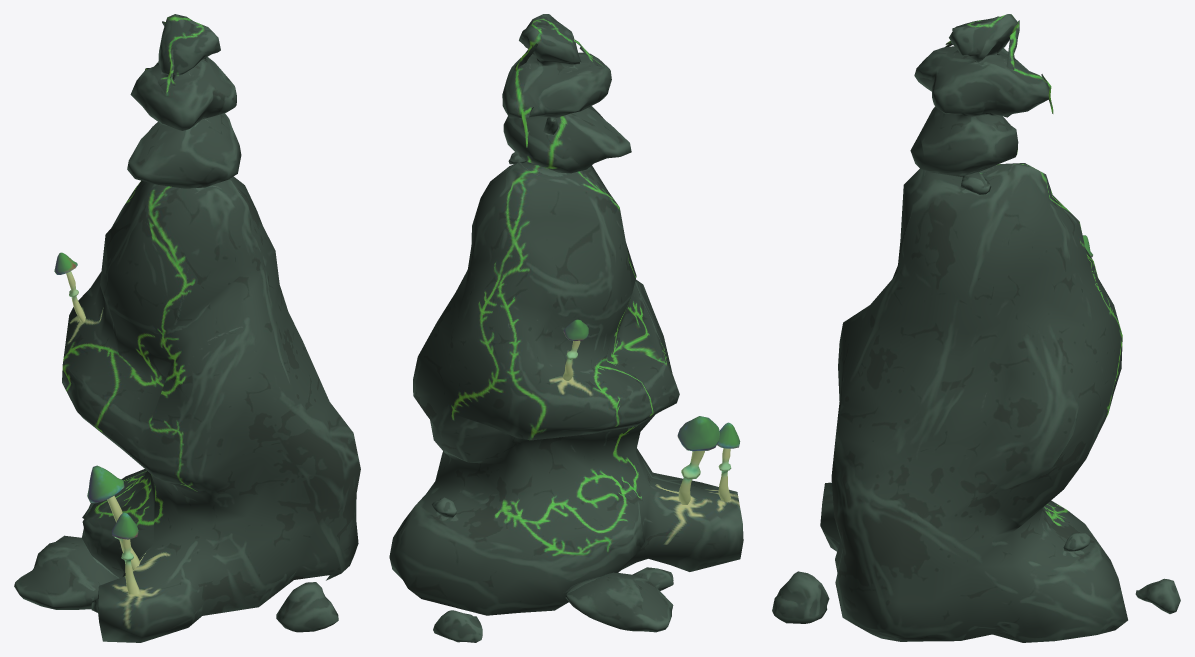
3 renders of one model, left to right at view 1: azimuth 30°, elevation 25°; view 2: azimuth 150°, elevation 25°; view 3: azimuth 270°, elevation 25°, orthographic. The views are drawn at different scales.
Parts seen in each view (by area): view 1: kivijuttu2:kivibase_low, kivijuttu2:balancestones, kivijuttu2:Pikkukivet_low, kivijuttu2:Mushrooms_low; view 2: kivijuttu2:kivibase_low, kivijuttu2:balancestones, kivijuttu2:Pikkukivet_low, kivijuttu2:Mushrooms_low; view 3: kivijuttu2:kivibase_low, kivijuttu2:balancestones, kivijuttu2:Pikkukivet_low.
Part boxes in pixels (x1,y1,x2,y2): kivijuttu2:kivibase_low: (62, 176, 360, 642); kivijuttu2:balancestones: (127, 14, 241, 188); kivijuttu2:Pikkukivet_low: (14, 503, 338, 632); kivijuttu2:Mushrooms_low: (54, 252, 140, 594); kivijuttu2:kivibase_low: (389, 162, 743, 615); kivijuttu2:balancestones: (502, 14, 631, 173); kivijuttu2:Pikkukivet_low: (431, 117, 673, 642); kivijuttu2:Mushrooms_low: (563, 319, 740, 504); kivijuttu2:kivibase_low: (820, 163, 1127, 642); kivijuttu2:balancestones: (910, 14, 1053, 177); kivijuttu2:Pikkukivet_low: (772, 115, 1180, 623).
Bounding box in the file's own units: 1 × 2 × 1.23.
Materials: 2 (2 with a texture image).
